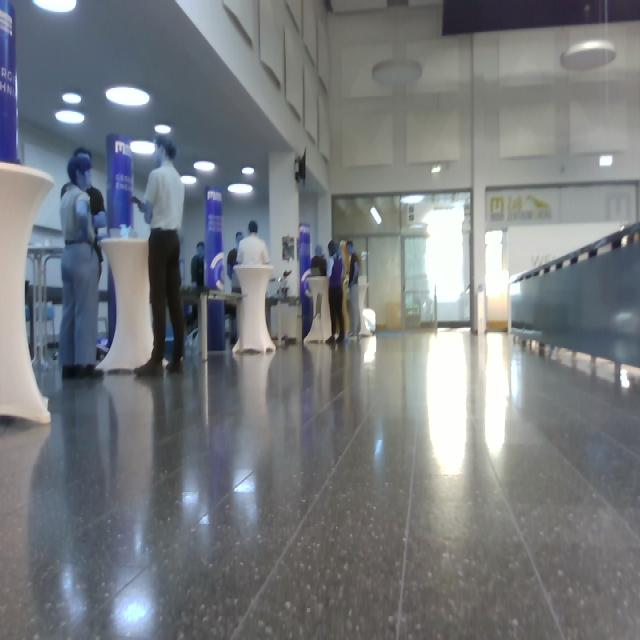light bulb: (560, 38, 617, 72), (372, 59, 422, 87), (105, 86, 150, 108), (121, 598, 148, 625), (32, 1, 77, 13), (55, 110, 85, 125), (130, 140, 156, 156), (228, 183, 253, 195), (62, 92, 82, 105), (194, 161, 215, 172), (370, 206, 382, 225), (599, 154, 613, 168), (181, 174, 197, 185), (155, 124, 172, 134), (242, 166, 255, 176)
person: (130, 134, 186, 377), (59, 153, 105, 380), (233, 220, 277, 348), (326, 240, 347, 344), (345, 241, 362, 338)
staircase: (507, 221, 640, 378)
tiled floor: (2, 327, 639, 639)
